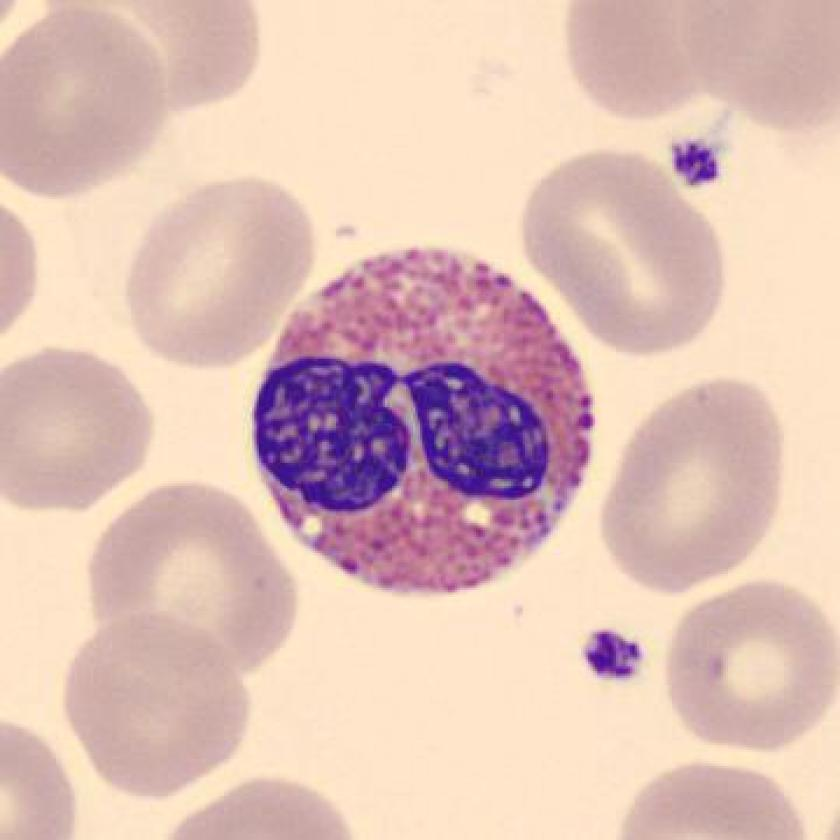eosinophil: (234, 235, 608, 605)
